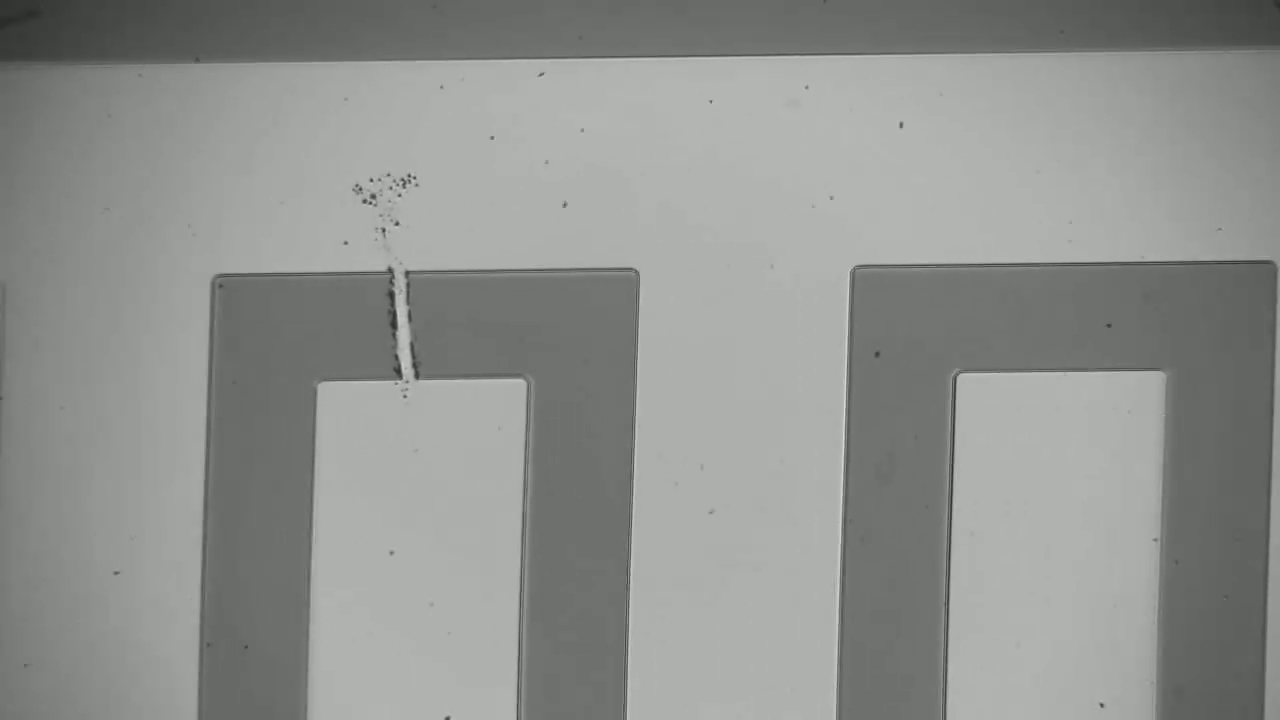Short_circuit: (362, 237, 456, 408)
